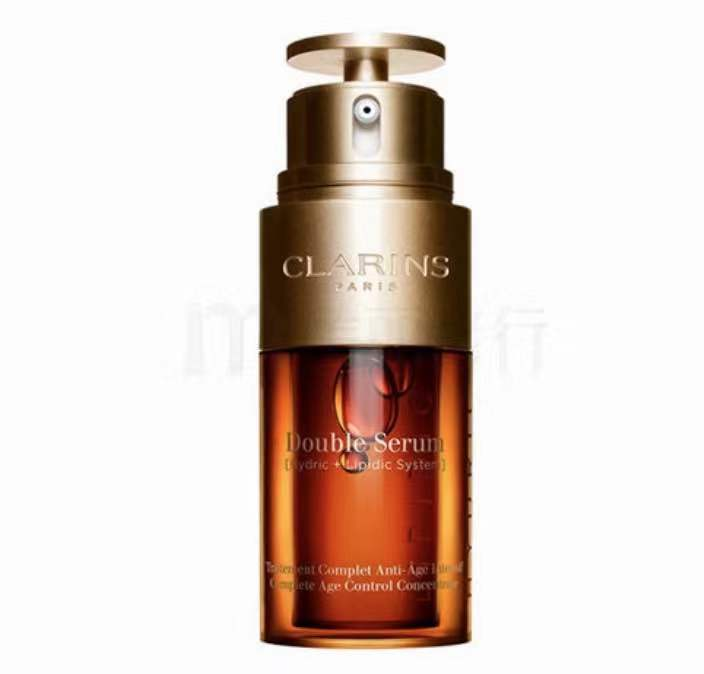cosmetic: (252, 25, 474, 642)
